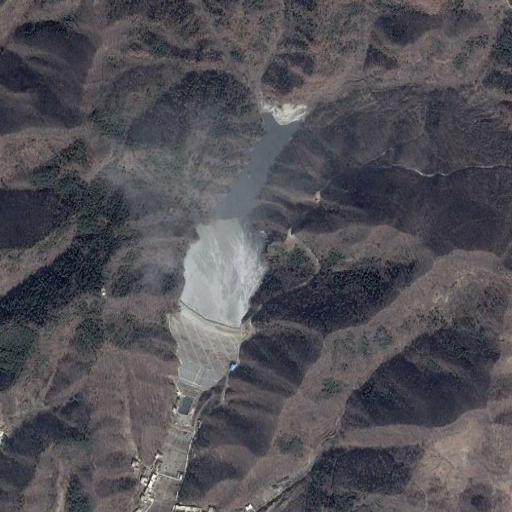tp: (167, 109, 308, 388)
